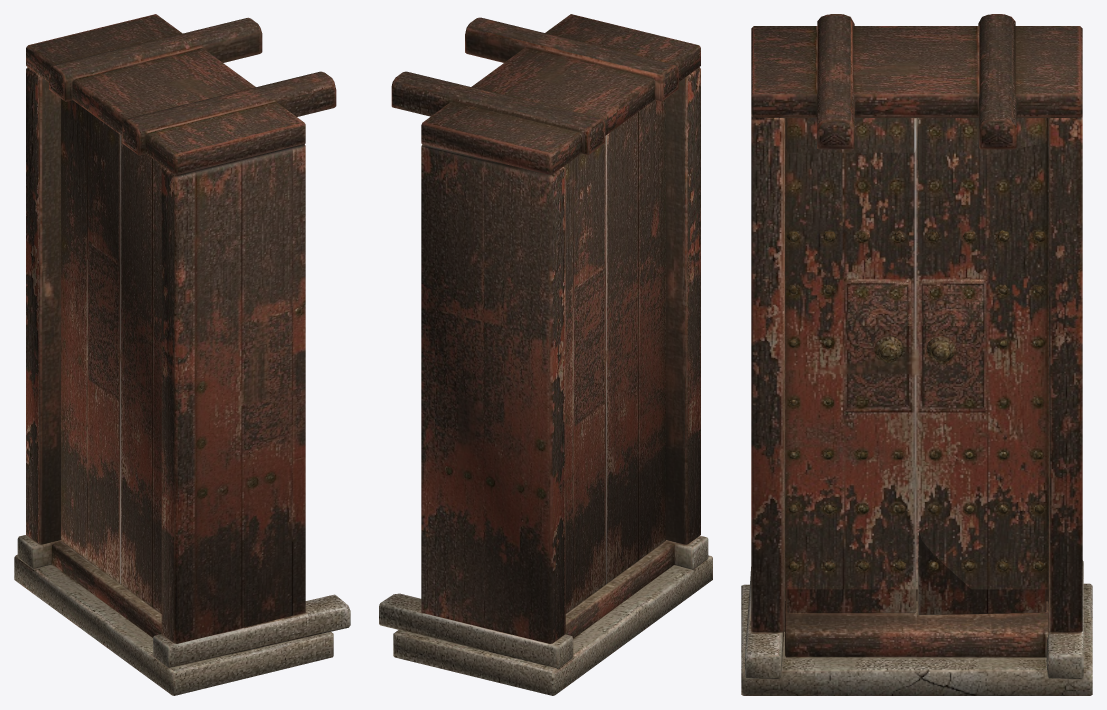
File: tripo_convert_48946741-0a0e-498b-8431-e9b015a10ff0.fbx
The picture shows the model from 3 angles, left to right: view 1: azimuth 30°, elevation 25°; view 2: azimuth 150°, elevation 25°; view 3: azimuth 270°, elevation 25°; orthographic projection. The views are drawn at different scales.
Parts seen in each view (by area): view 1: tripo_node_48946741; view 2: tripo_node_48946741; view 3: tripo_node_48946741.
Boxes of the visible parts, x1,y1,x2,y2 form: tripo_node_48946741: (14, 14, 350, 695); tripo_node_48946741: (379, 14, 712, 695); tripo_node_48946741: (741, 14, 1092, 695).
Bounding box in the file's own units: 0.3809 × 0.998 × 0.5332.
1 material, 1 textured.
